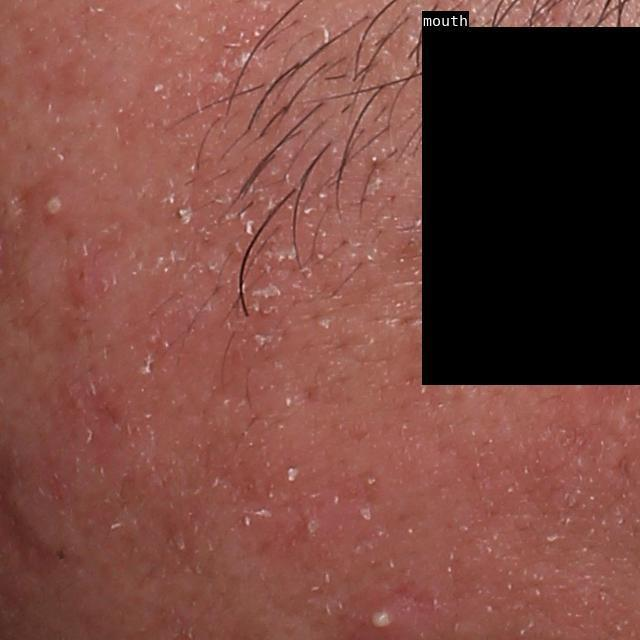pustule: (36, 179, 81, 230), (364, 601, 409, 633)
